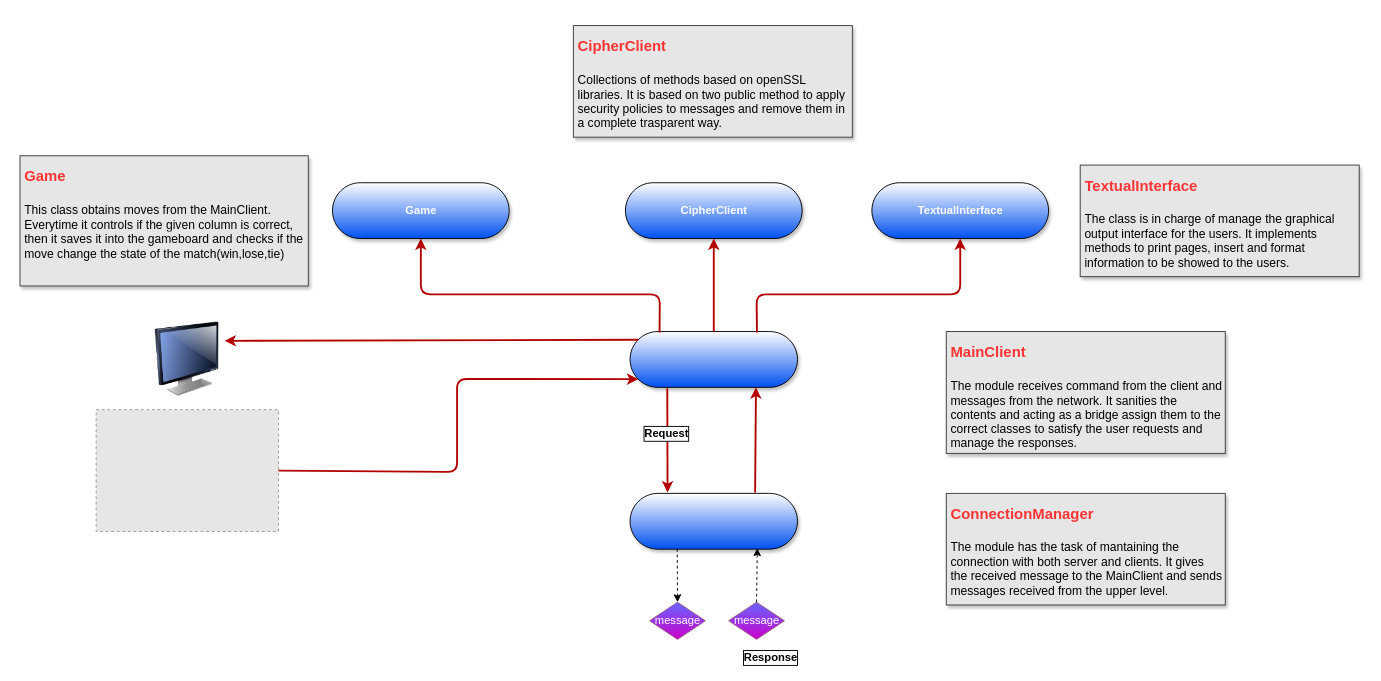
Some shapes in this 1381 by 681 pixel diagram are drawn without their labels. Grey dashed boxes stand in for pictures. Each missing label, with the centre of its shape:
ConnectionManager: point (714, 522)
MainClient: point (714, 360)
